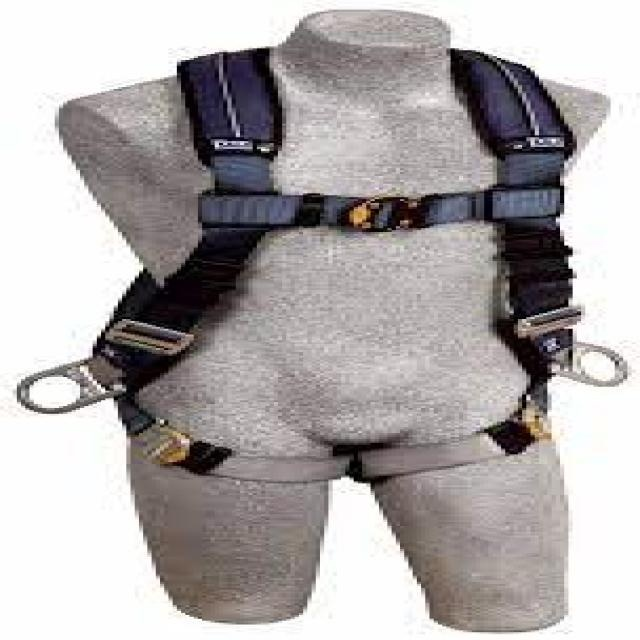Arnes_seguridad: (0, 50, 640, 487)
